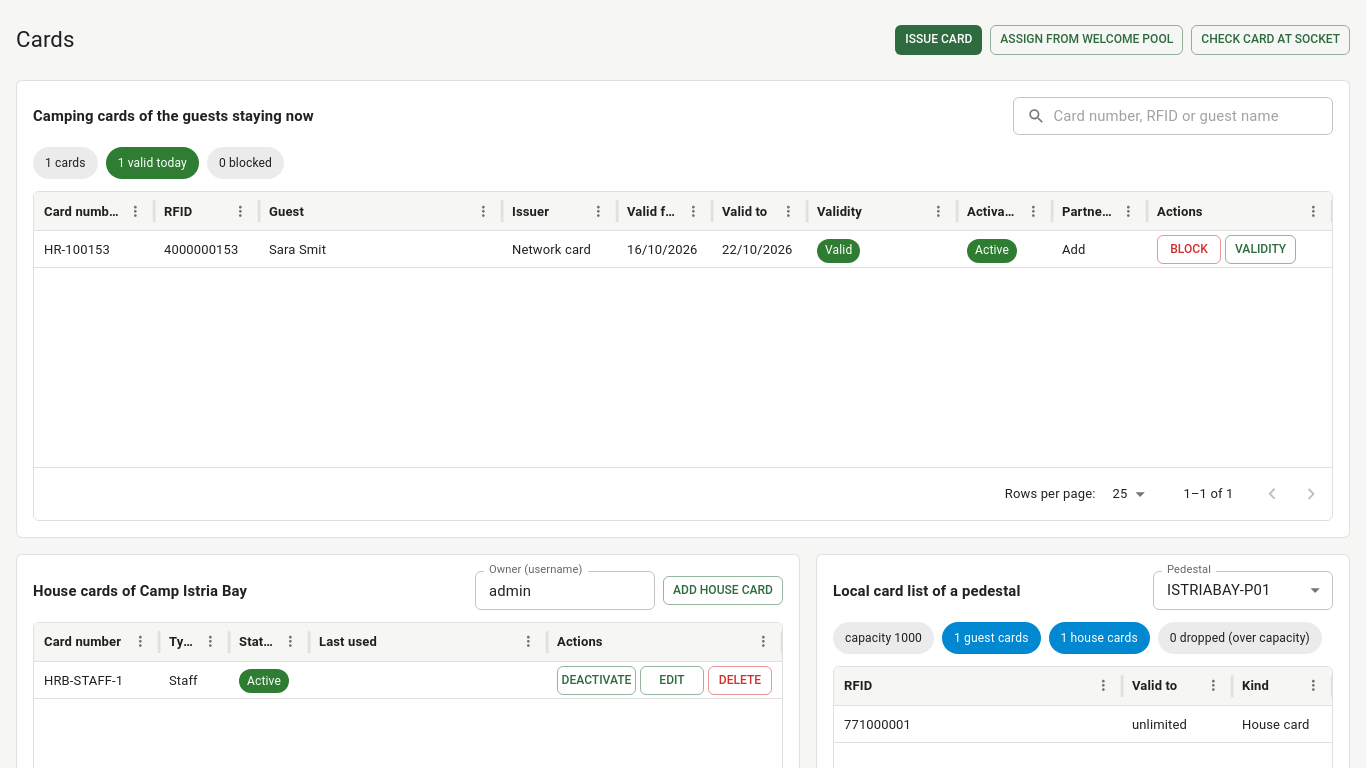
Scenario: cards tab › searches a card by its number
Type "HR-100001" into the field named "Search cards".
click(1193, 116); type("HR-100001")  # box top-left (1054, 97), bottom-right (1333, 135)
Then press Enter
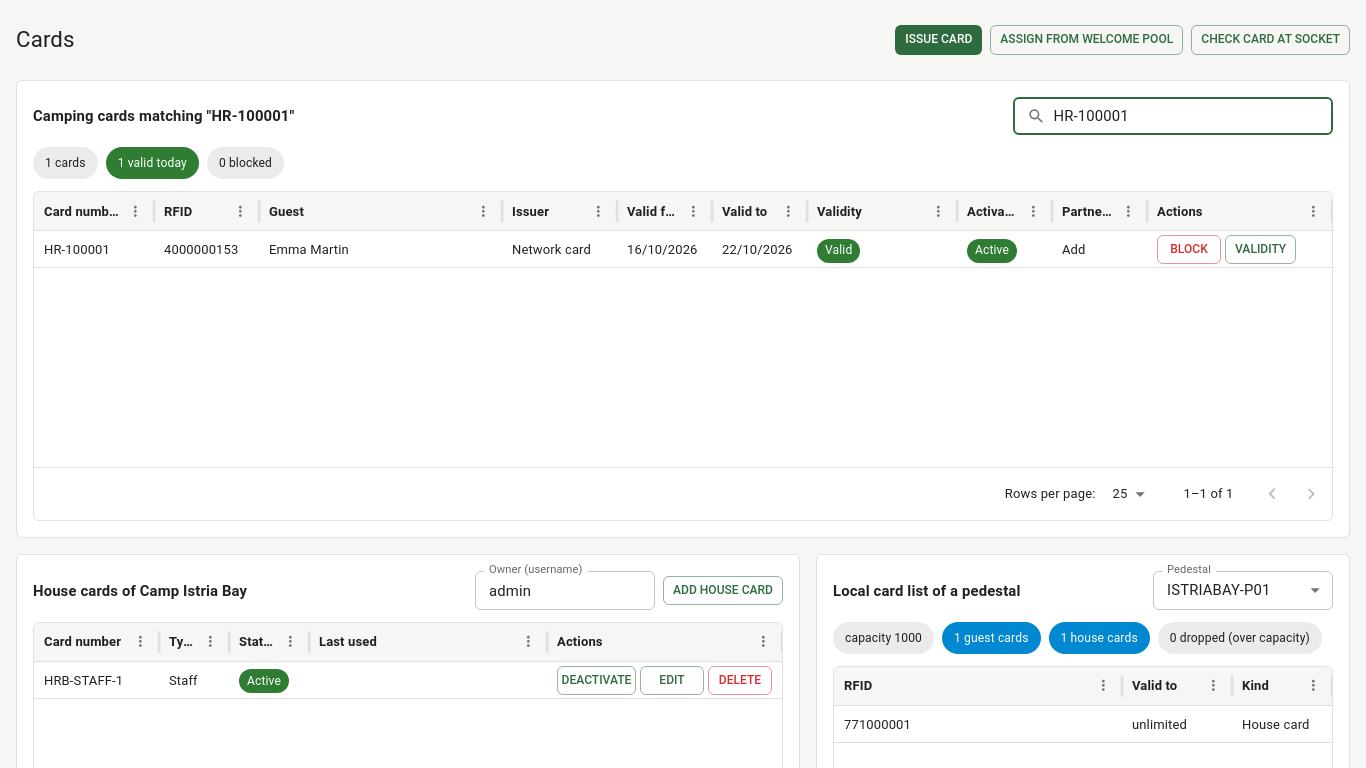
Now the text "Emma Martin" is shown, box top-left (269, 242), bottom-right (349, 257)
